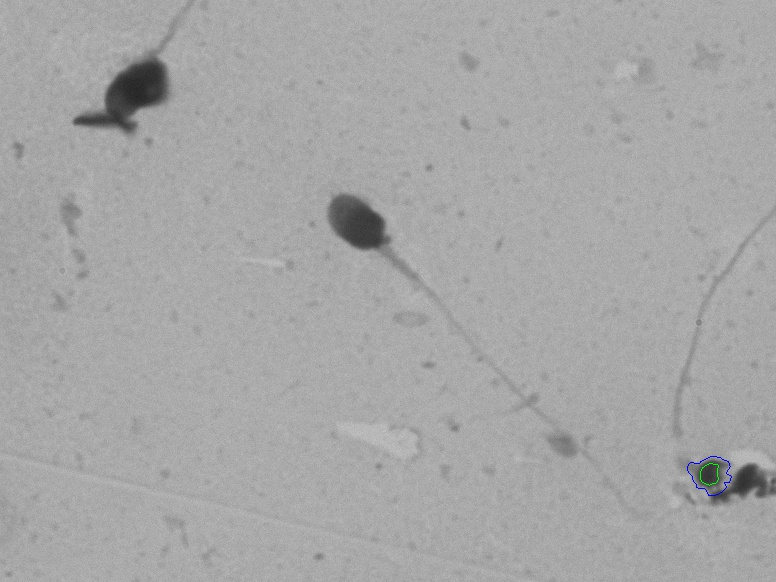Abnormal: (299, 144, 617, 534)
